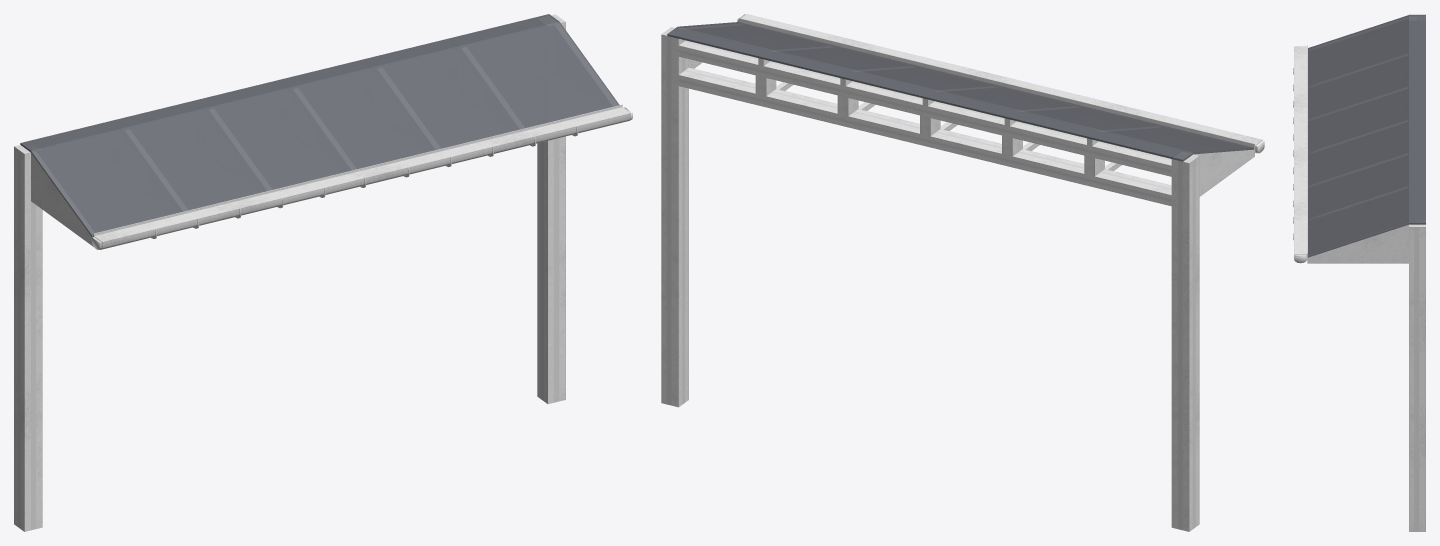
Rendered from SM06_Building_Canopy_01.fbx.
3 views of the same model, side by side, from view 1: azimuth 30°, elevation 25°; view 2: azimuth 150°, elevation 25°; view 3: azimuth 270°, elevation 25° (orthographic). The views are drawn at different scales.
Visible parts, largest first — view 1: SM06_Building_Canopy_01; view 2: SM06_Building_Canopy_01; view 3: SM06_Building_Canopy_01.
Boxes of the visible parts, box(x1,y1,x2,y2) form: SM06_Building_Canopy_01: box(14, 14, 632, 531); SM06_Building_Canopy_01: box(661, 14, 1264, 531); SM06_Building_Canopy_01: box(1293, 14, 1425, 531).
Bounding box in the file's own units: 15 × 10.06 × 3.95.
